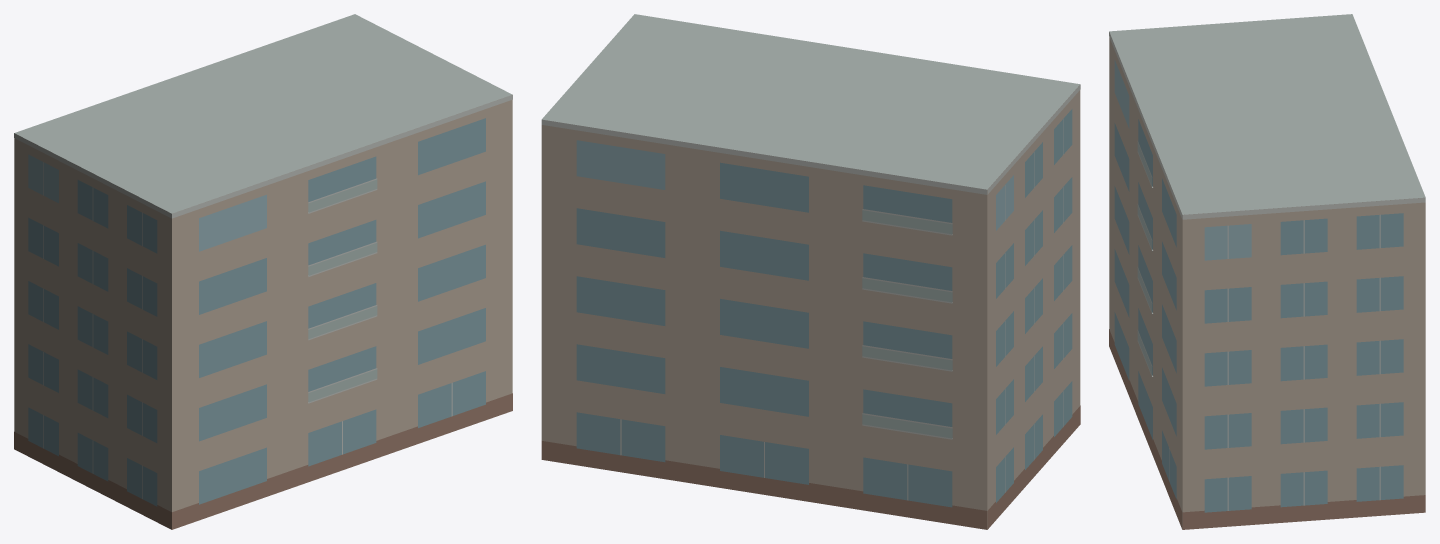
The model's file is survey-upis-32977339.glb.
3 views of the same model, side by side, from view 1: azimuth 30°, elevation 25°; view 2: azimuth 150°, elevation 25°; view 3: azimuth 270°, elevation 25° (orthographic). The views are drawn at different scales.
Visible parts, largest first — view 1: survey-upis-32977339.tmp; view 2: survey-upis-32977339.tmp; view 3: survey-upis-32977339.tmp.
Part boxes in pixels (x1,y1,x2,y2): survey-upis-32977339.tmp: [14, 14, 512, 529]; survey-upis-32977339.tmp: [541, 14, 1080, 529]; survey-upis-32977339.tmp: [1109, 14, 1425, 529].
Bounding box in the file's own units: 21.48 × 15.7 × 14.31.
